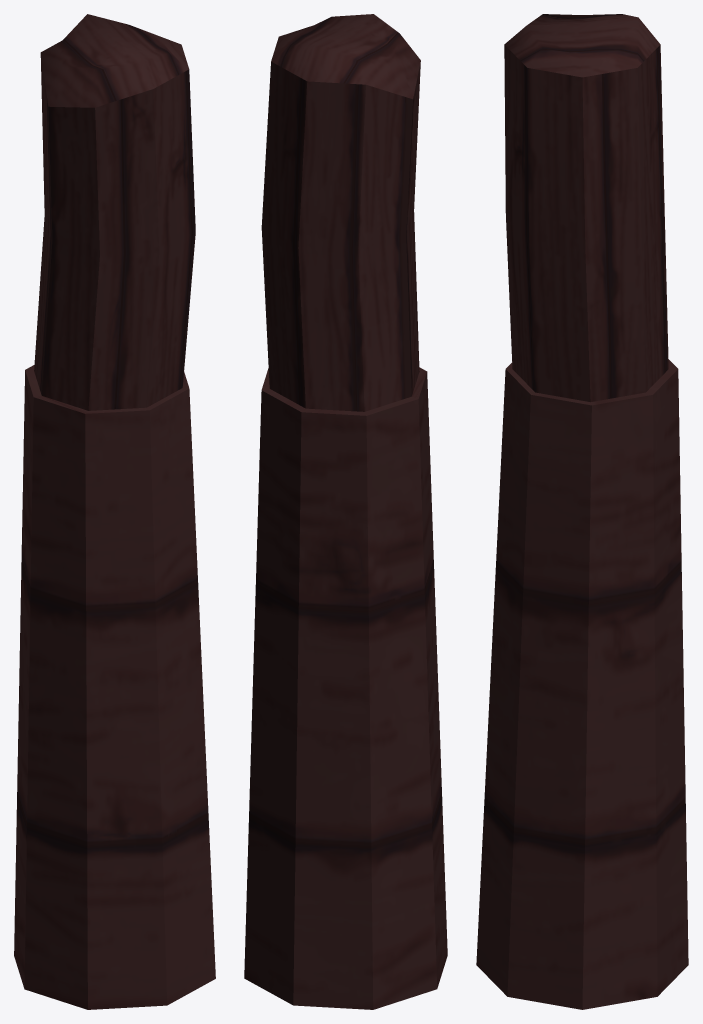
File: MOD_ShortPierPillar_Block.fbx
3 renders of one model, left to right at view 1: azimuth 30°, elevation 25°; view 2: azimuth 150°, elevation 25°; view 3: azimuth 270°, elevation 25°, orthographic.
Visible parts, largest first — view 1: MOD_ShortPierPillar_Block; view 2: MOD_ShortPierPillar_Block; view 3: MOD_ShortPierPillar_Block.
Part boxes in pixels (box(x1,y1,x2,y2)): MOD_ShortPierPillar_Block: box(14, 14, 215, 1009); MOD_ShortPierPillar_Block: box(244, 14, 447, 1009); MOD_ShortPierPillar_Block: box(476, 14, 688, 1009).
Bounding box in the file's own units: 68.13 × 336 × 68.13.
1 material, 1 textured.
